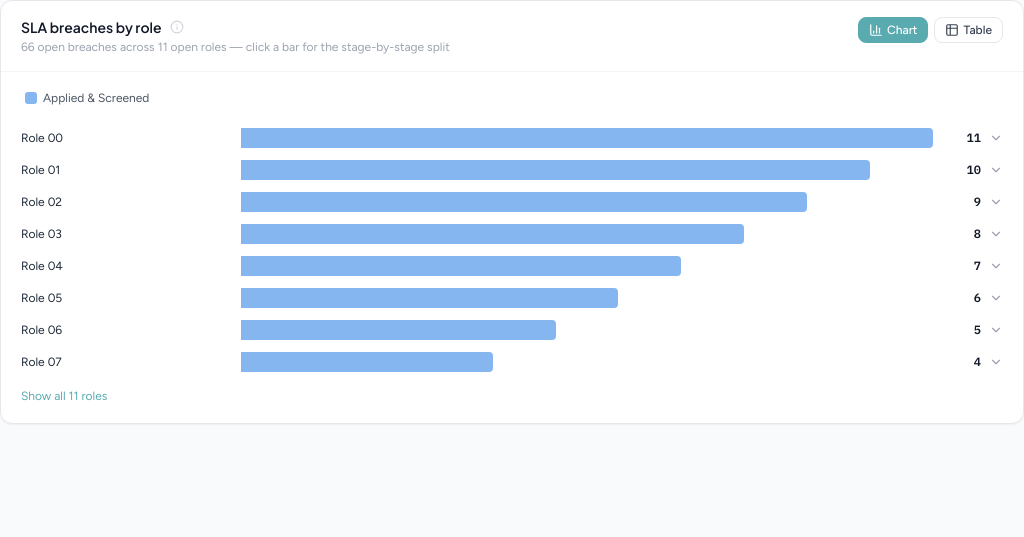
Test: SlaBreachesByRole › shows only the top eight roles until "Show all"
The image size is (1024, 537).
Check: the link "Role 00" is shown, box [21,131,63,145]
Click the button "Show all 11 roles" at {"x": 64, "y": 396}, box [21,388,107,404]
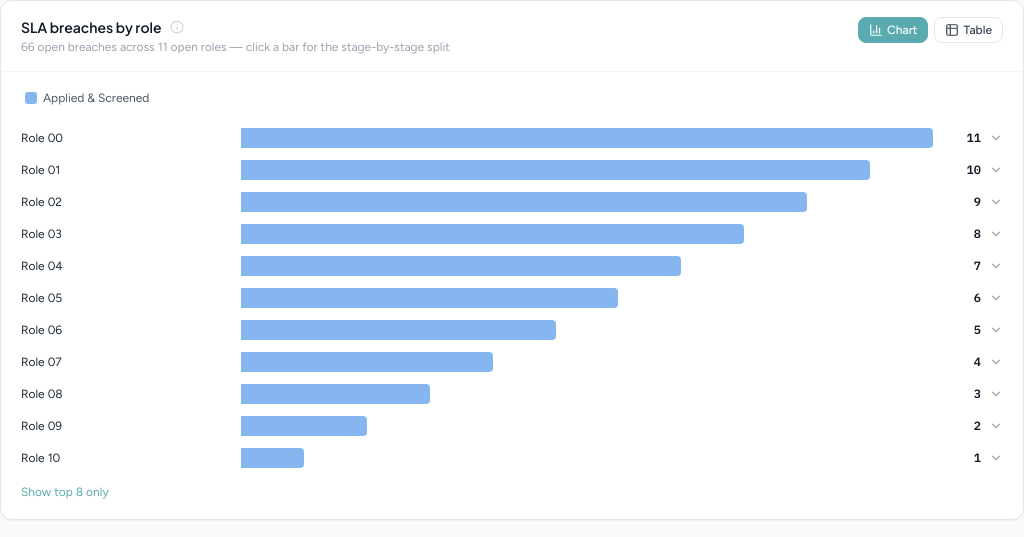
Check: the number of buttons named "open SLA breaches" is 11
Click the button "Show top 8 only" at {"x": 65, "y": 492}, box [21,484,109,500]
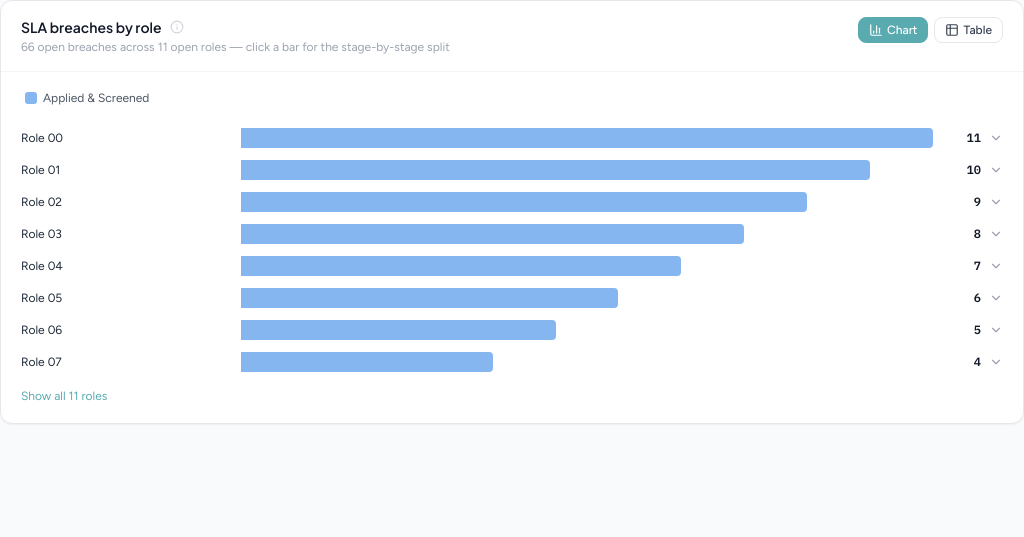
Check: the number of buttons named "open SLA breaches" is 8
